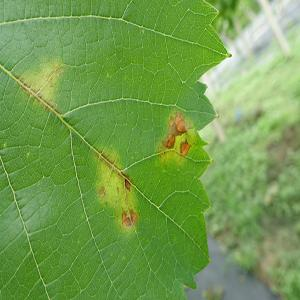Folha: (0, 0, 232, 299)
Fungo: (21, 60, 65, 114), (162, 110, 191, 156), (167, 117, 178, 136), (180, 140, 191, 156), (121, 210, 131, 227), (124, 174, 134, 191), (176, 119, 186, 133), (130, 210, 138, 224), (167, 133, 174, 148), (162, 135, 169, 148), (124, 178, 130, 190), (99, 186, 106, 196), (121, 210, 127, 221)
